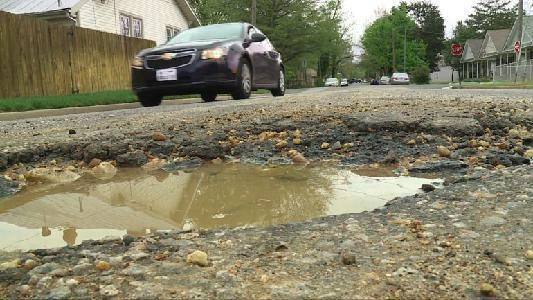pothole: (0, 106, 532, 255)
